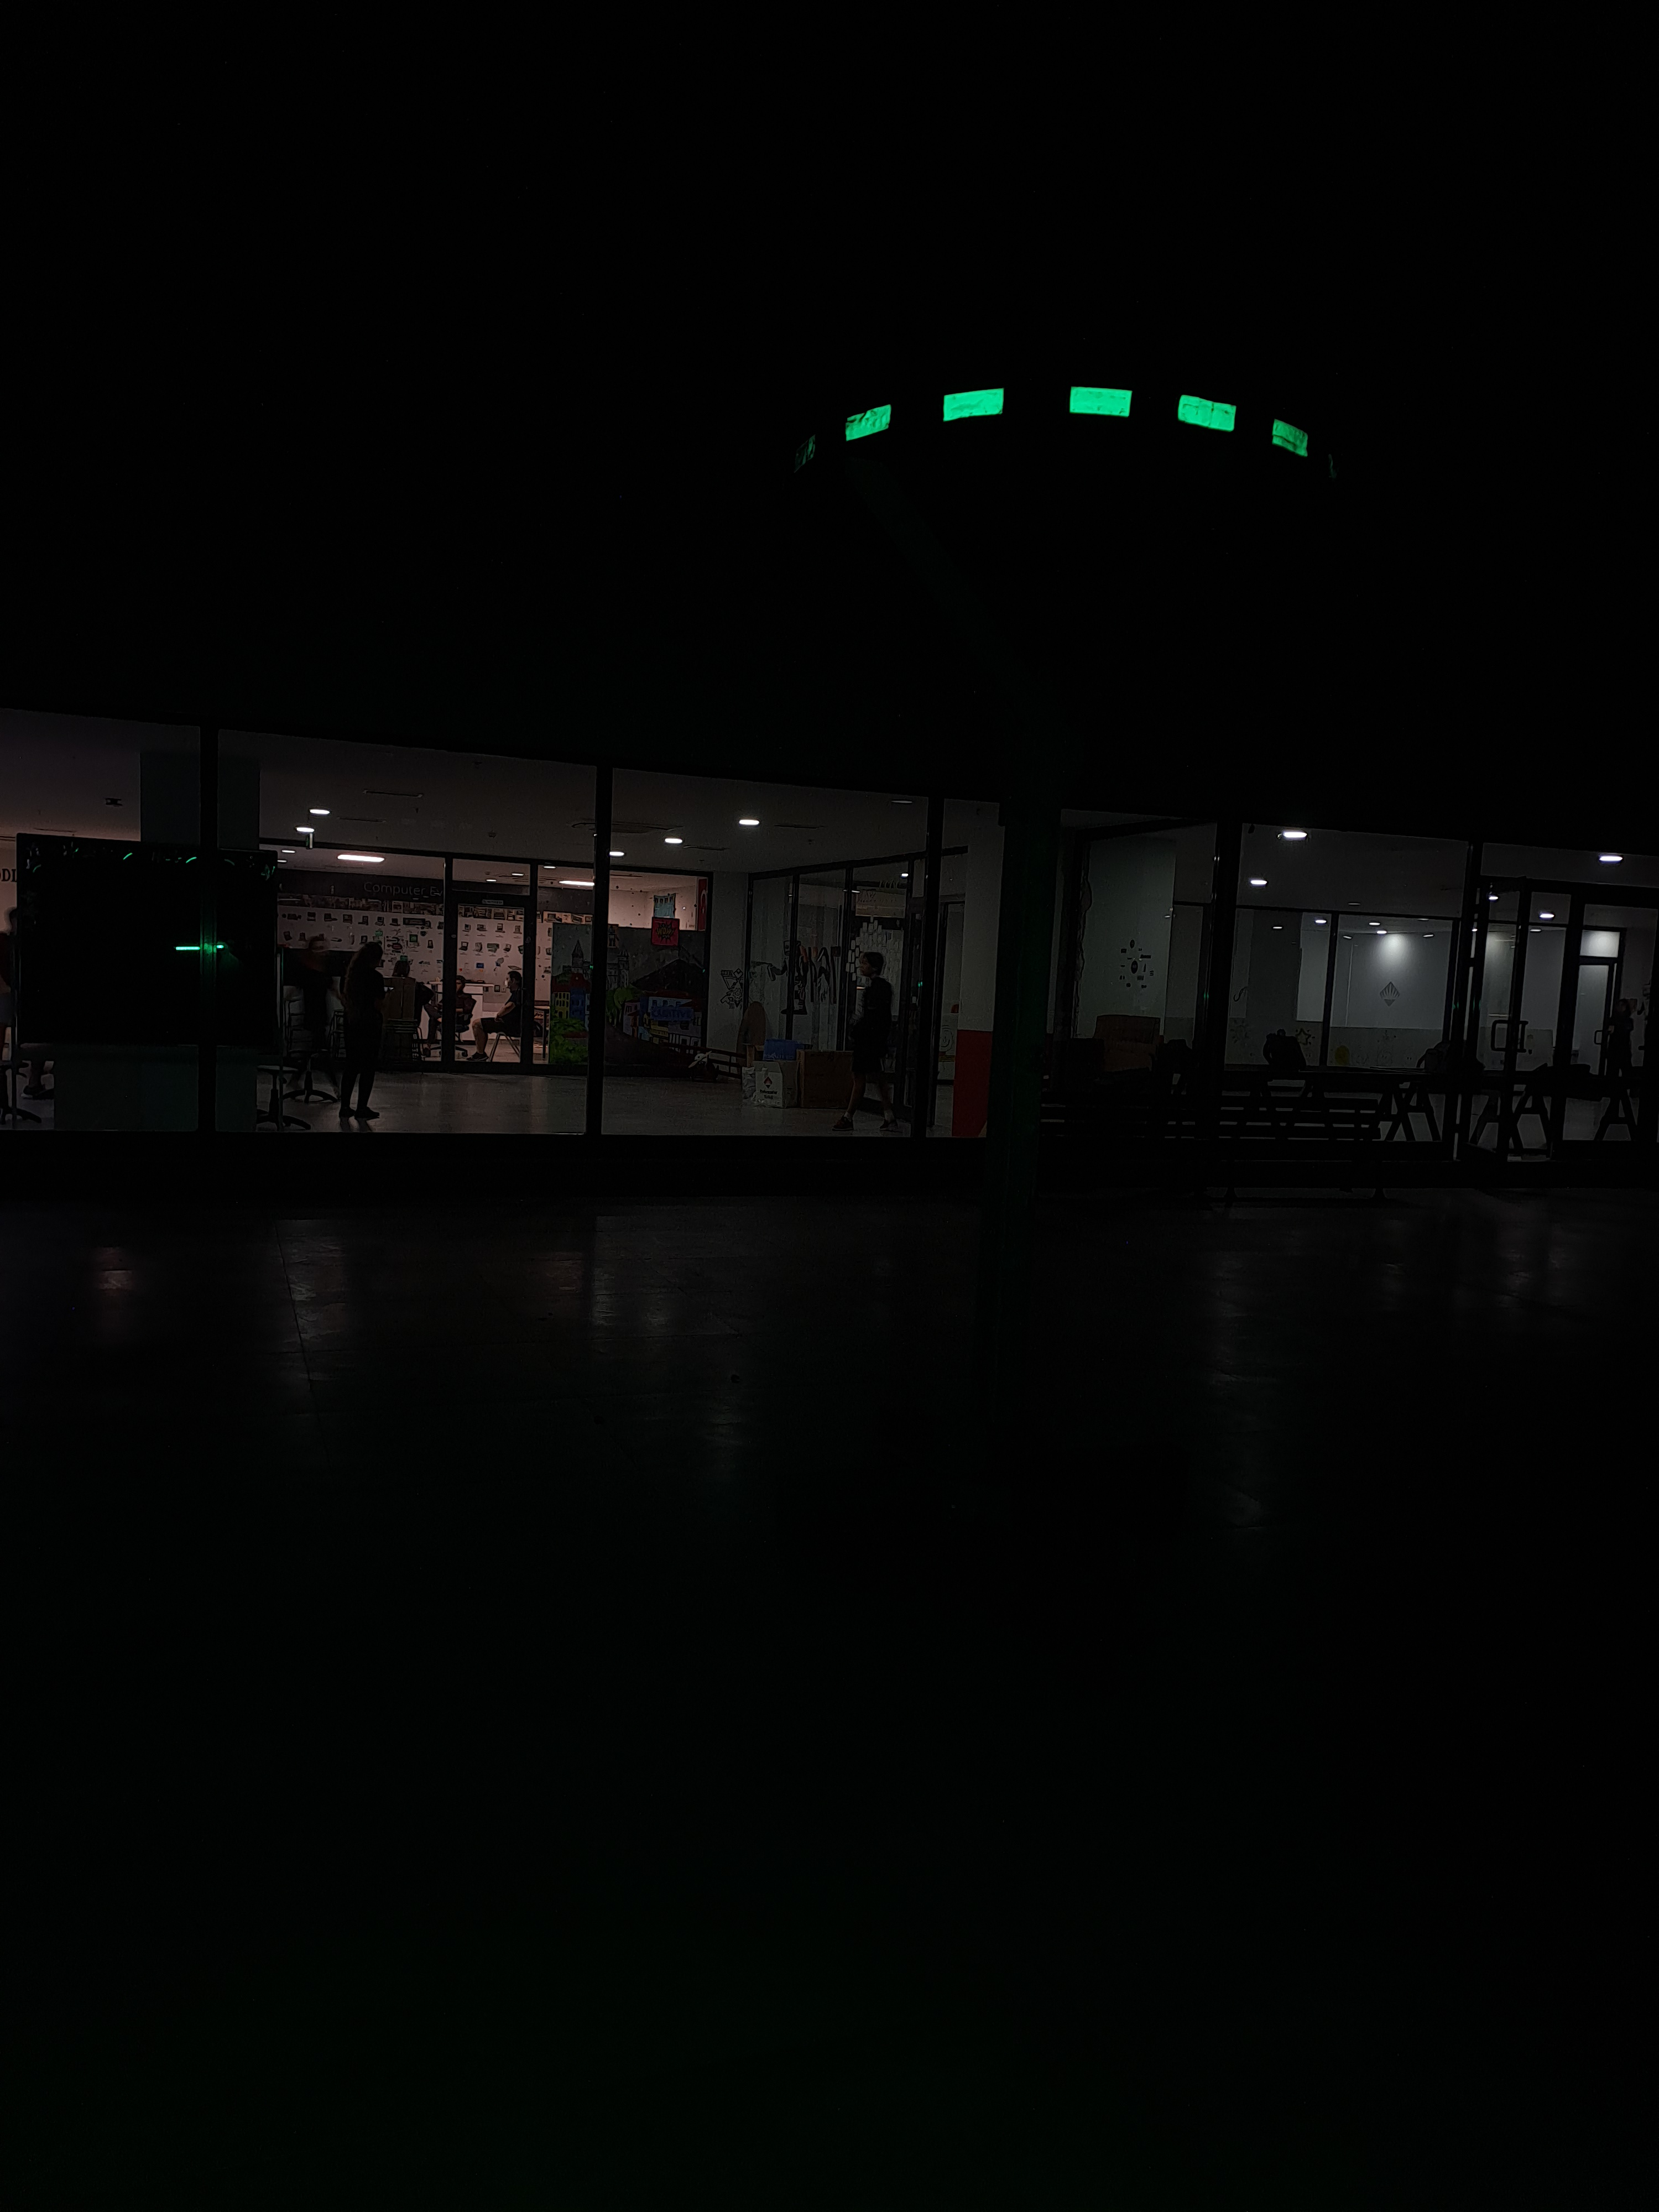hoop: (842, 364, 1310, 502)
